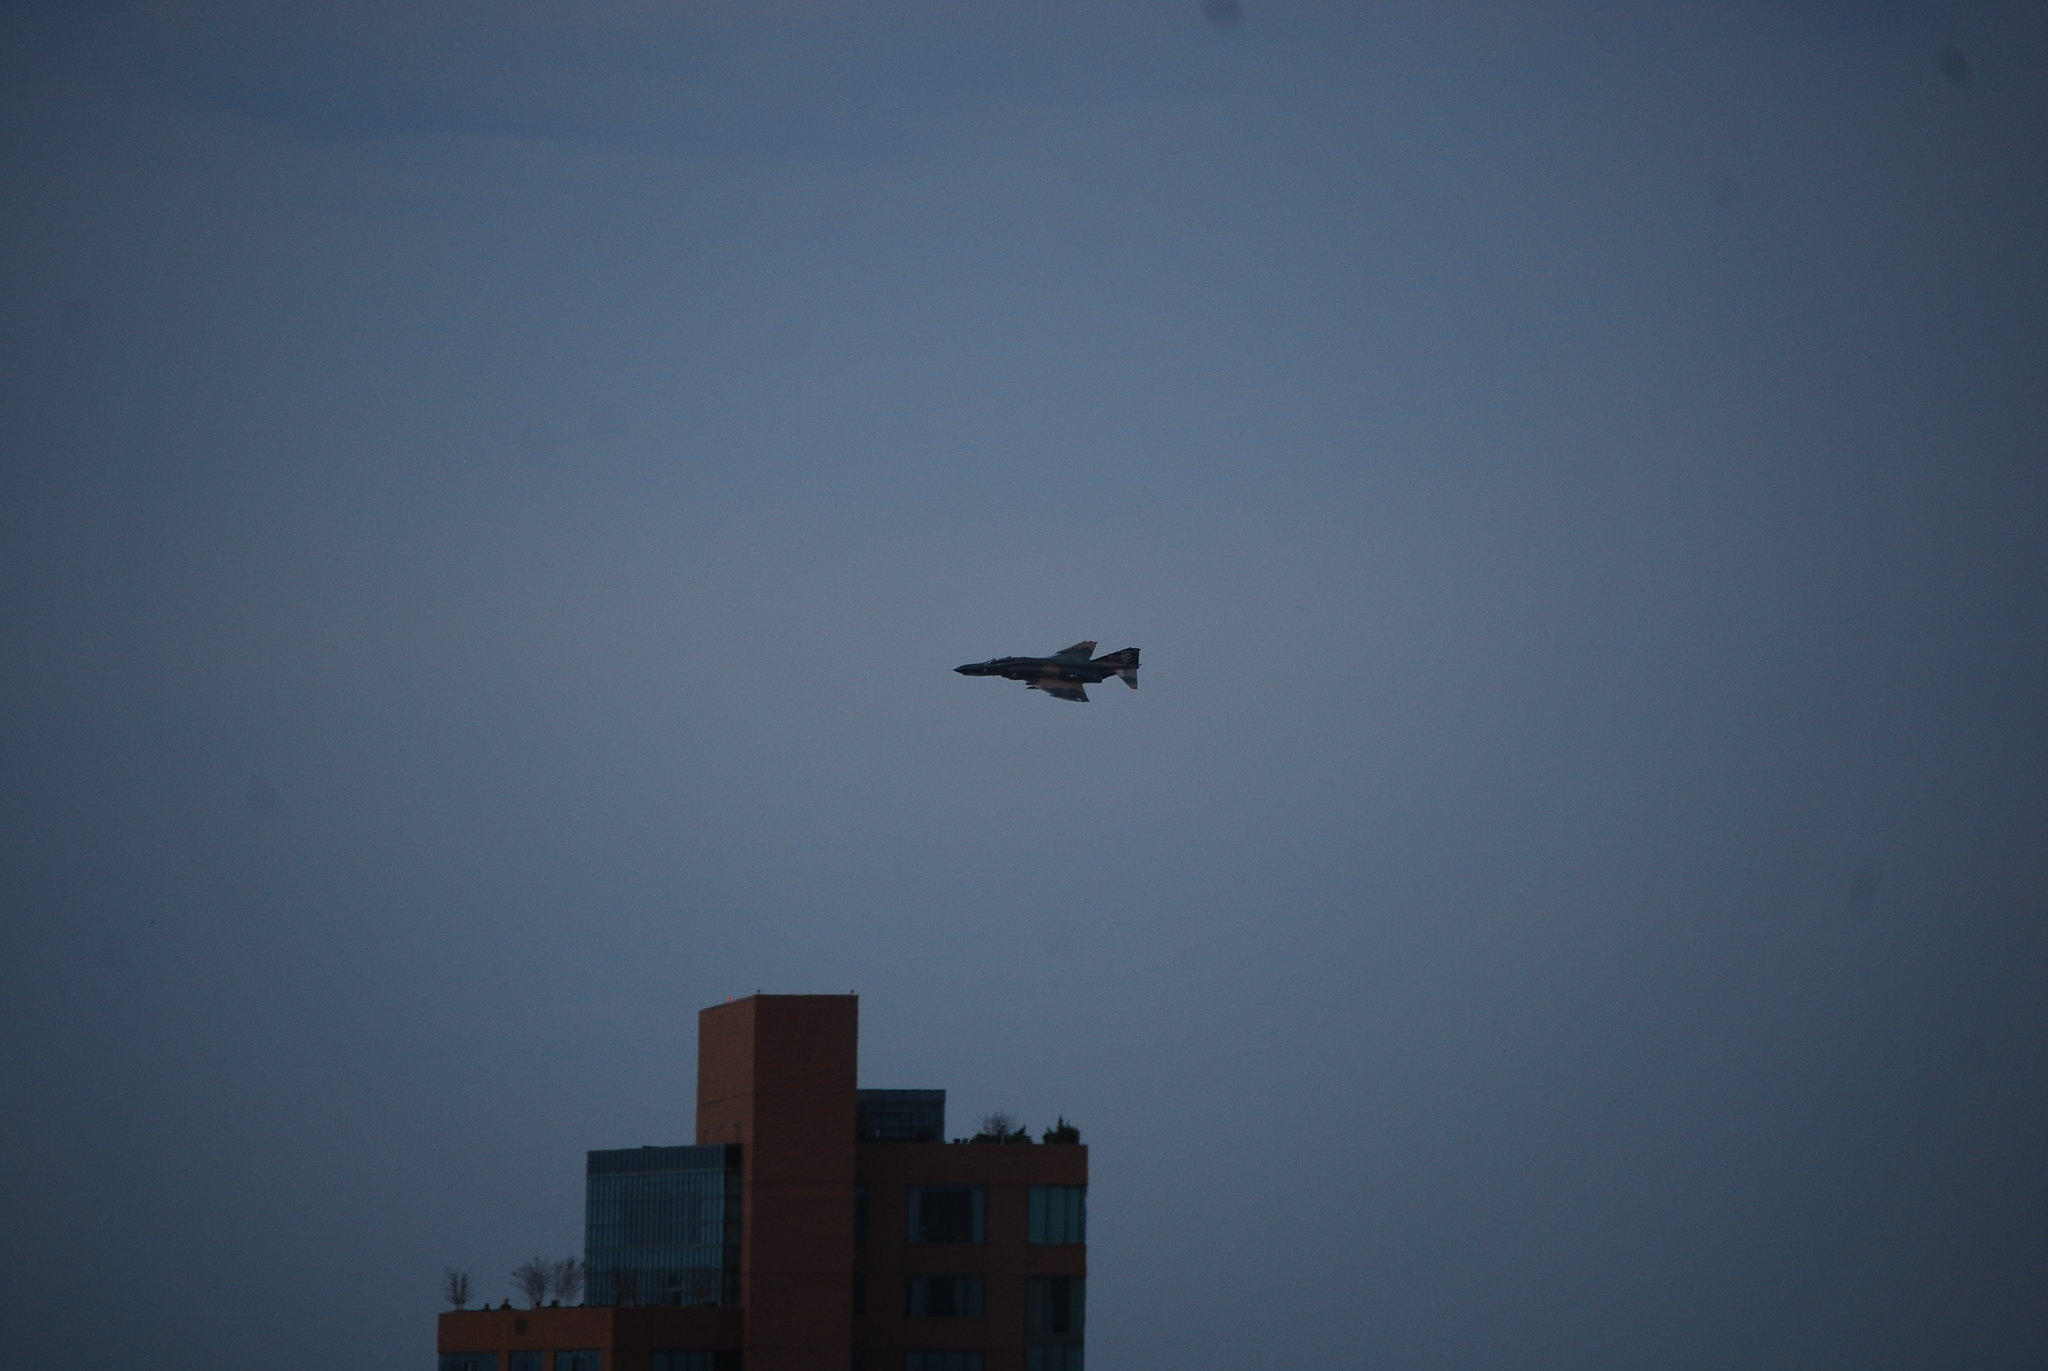F4: (947, 640, 1143, 702)
